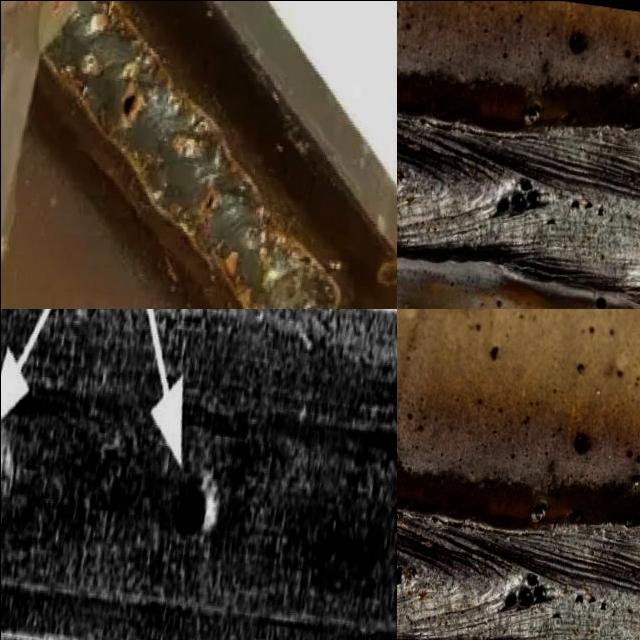defect: (160, 475, 226, 568), (488, 172, 552, 221), (500, 567, 553, 615), (570, 591, 610, 615), (566, 195, 606, 218), (120, 91, 139, 125), (198, 191, 217, 221), (396, 559, 407, 591), (592, 295, 607, 308), (544, 218, 556, 227)
